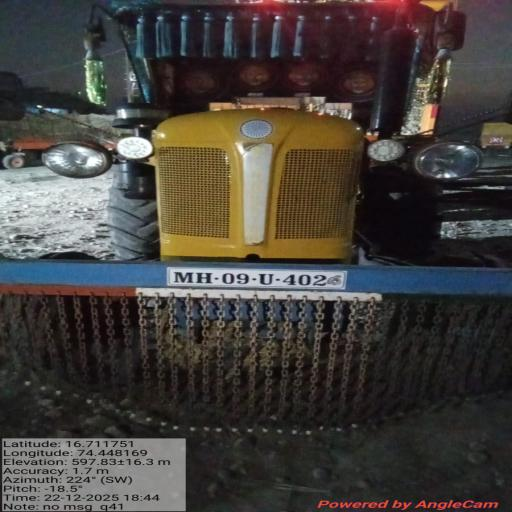number_plate: (168, 268, 346, 289)
